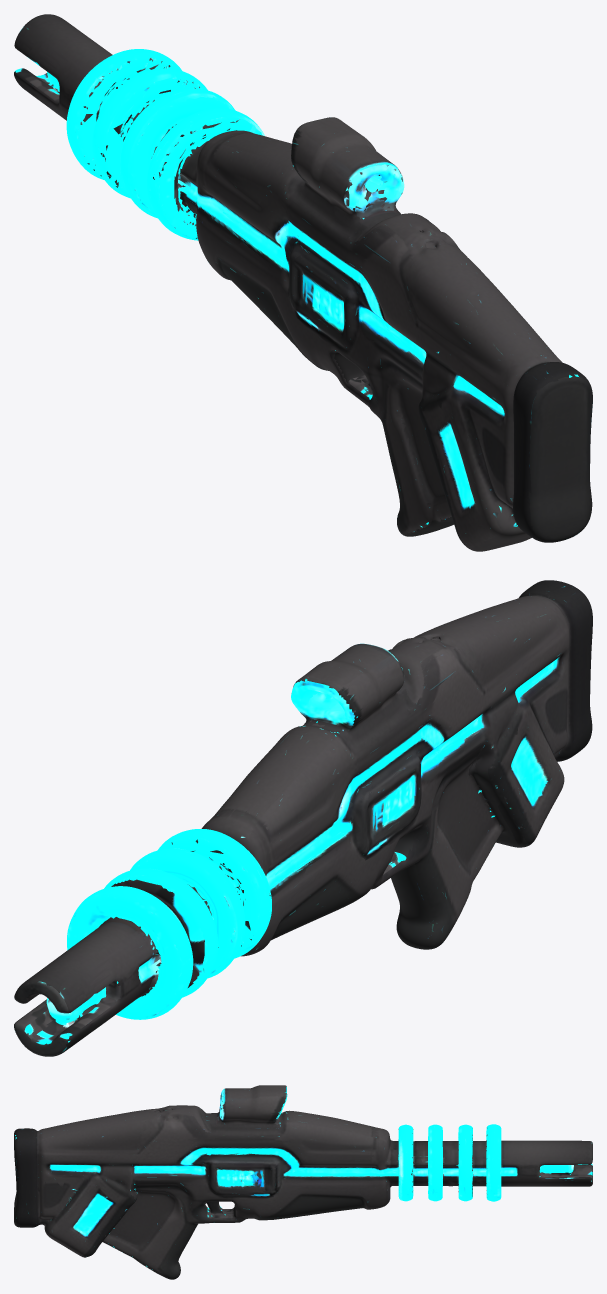
The model's file is pulse_carbine.glb.
3 renders of one model, top to bottom at view 1: azimuth 30°, elevation 25°; view 2: azimuth 150°, elevation 25°; view 3: azimuth 270°, elevation 25°, orthographic. The views are drawn at different scales.
Parts seen in each view (by area): view 1: pulse_carbine; view 2: pulse_carbine; view 3: pulse_carbine.
Part boxes in pixels (<box>): pulse_carbine: <box>14,14,592,551</box>; pulse_carbine: <box>14,580,592,1056</box>; pulse_carbine: <box>14,1085,592,1279</box>.
Size of the model in its own units: 0.0892 by 0.24 by 0.6677.
1 material, 1 textured.
